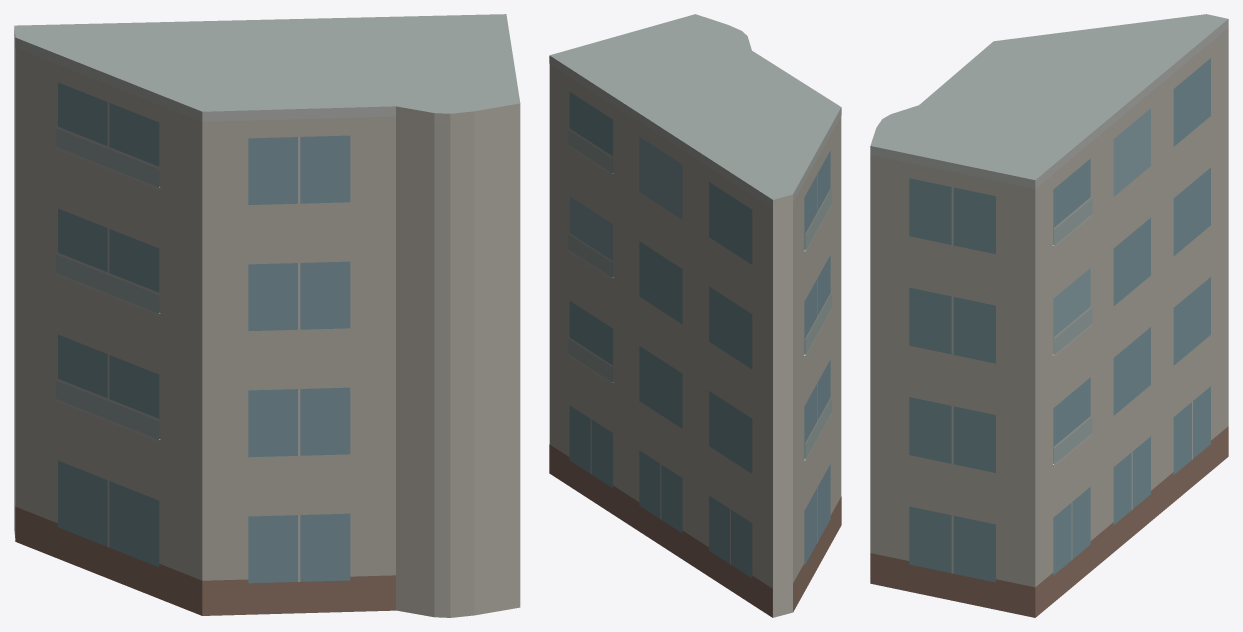
File: survey-upis-32733049.glb
3 views of the same model, side by side, from view 1: azimuth 30°, elevation 25°; view 2: azimuth 150°, elevation 25°; view 3: azimuth 270°, elevation 25° (orthographic). The views are drawn at different scales.
Visible parts, largest first — view 1: survey-upis-32733049.tmp; view 2: survey-upis-32733049.tmp; view 3: survey-upis-32733049.tmp.
Part boxes in pixels (left/top/right/bottom): survey-upis-32733049.tmp: left=14, top=14, right=520, bottom=617; survey-upis-32733049.tmp: left=549, top=14, right=841, bottom=617; survey-upis-32733049.tmp: left=870, top=14, right=1228, bottom=617.
Bounding box in the file's own units: 9.94 × 12.2 × 9.06.
